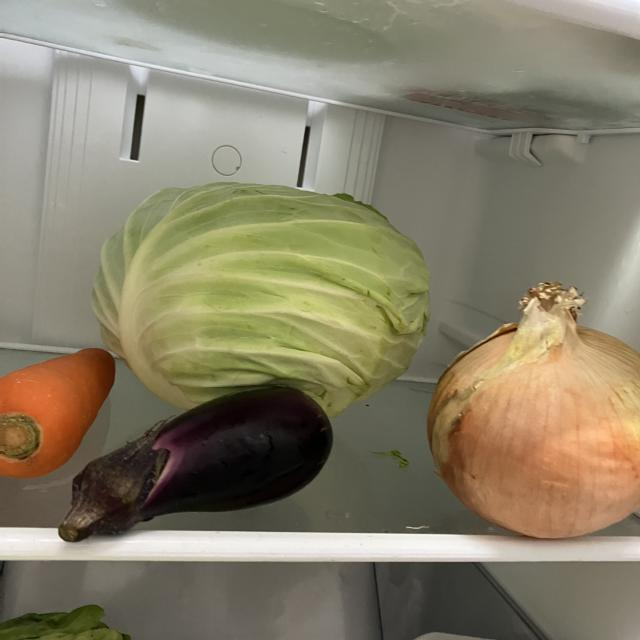cabbage: (91, 181, 436, 431)
carrot: (1, 346, 122, 488)
eggplant: (57, 380, 341, 546)
onion: (427, 283, 640, 547)
